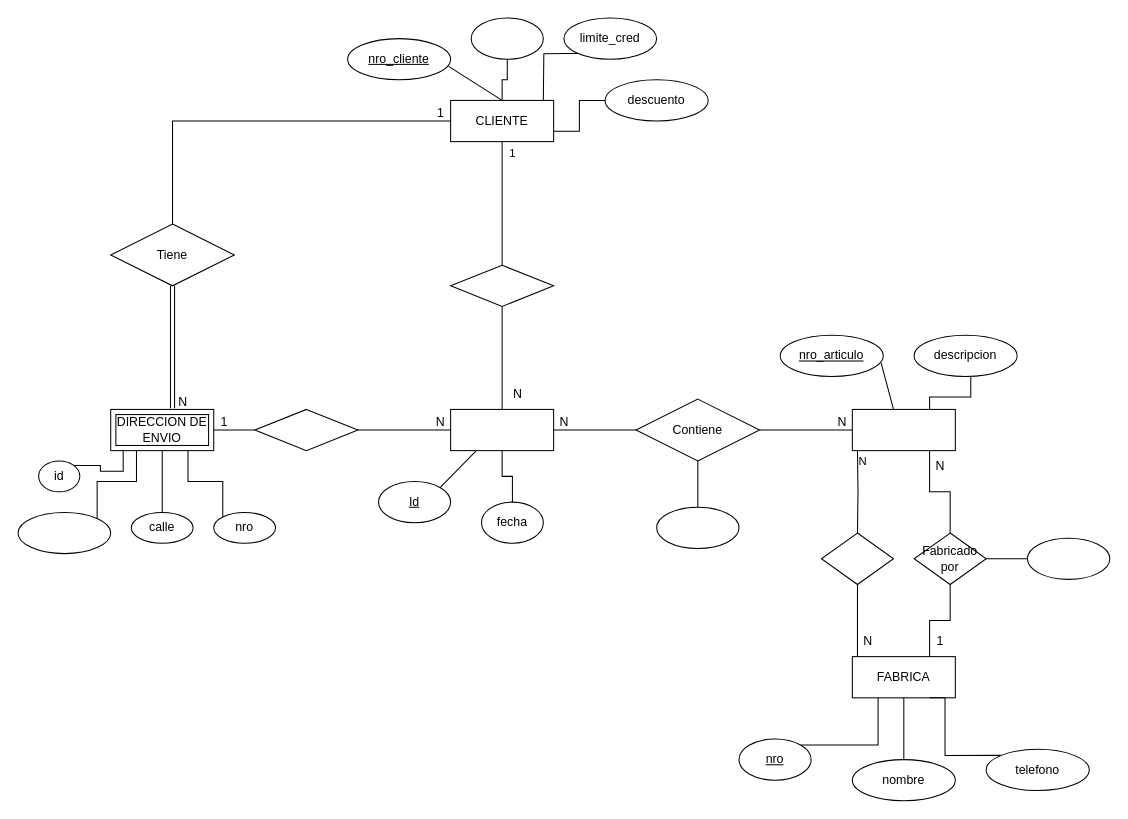
The diagram is 1128 pixels wide and 819 high, and some of its shapes have lost their labels. The centre of each missing label's shape, as x and y in pixels:
"ARTICULO" belongs at (x=903, y=429).
"cantidad" belongs at (x=697, y=527).
"existencia" belongs at (x=1068, y=558).
"localidad" belongs at (x=64, y=532).
"PEDIDO" belongs at (x=502, y=429).
"Realiza" belongs at (x=502, y=285).
"saldo" belongs at (x=506, y=38).
"Se informa en" belongs at (x=306, y=429).
"Tiene alternativa en" belongs at (x=857, y=558).
